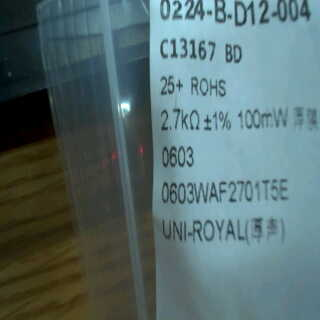2.7kR: (156, 104, 205, 136)
